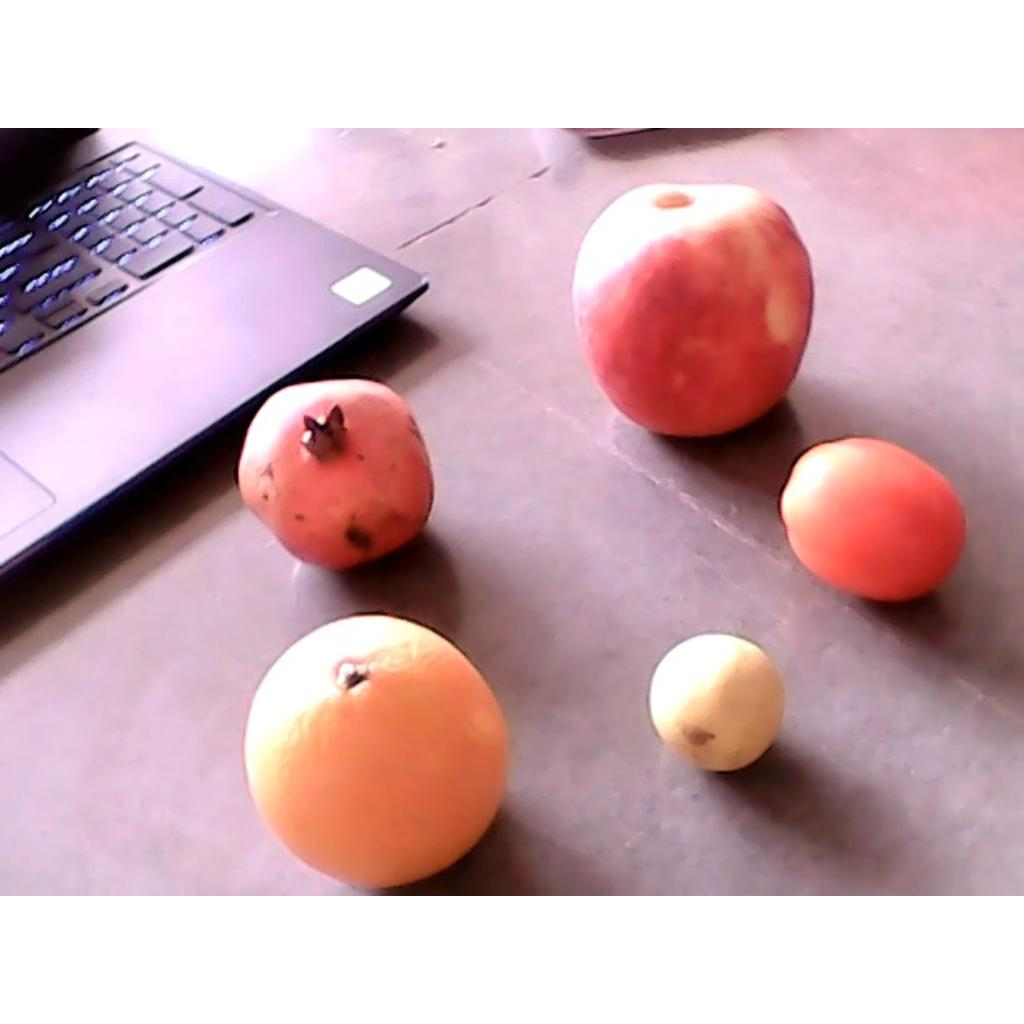apple: (573, 179, 814, 438)
lemon: (650, 630, 785, 765)
orange: (243, 612, 510, 885)
pomegranate: (238, 381, 435, 570)
tomato: (780, 437, 970, 600)
